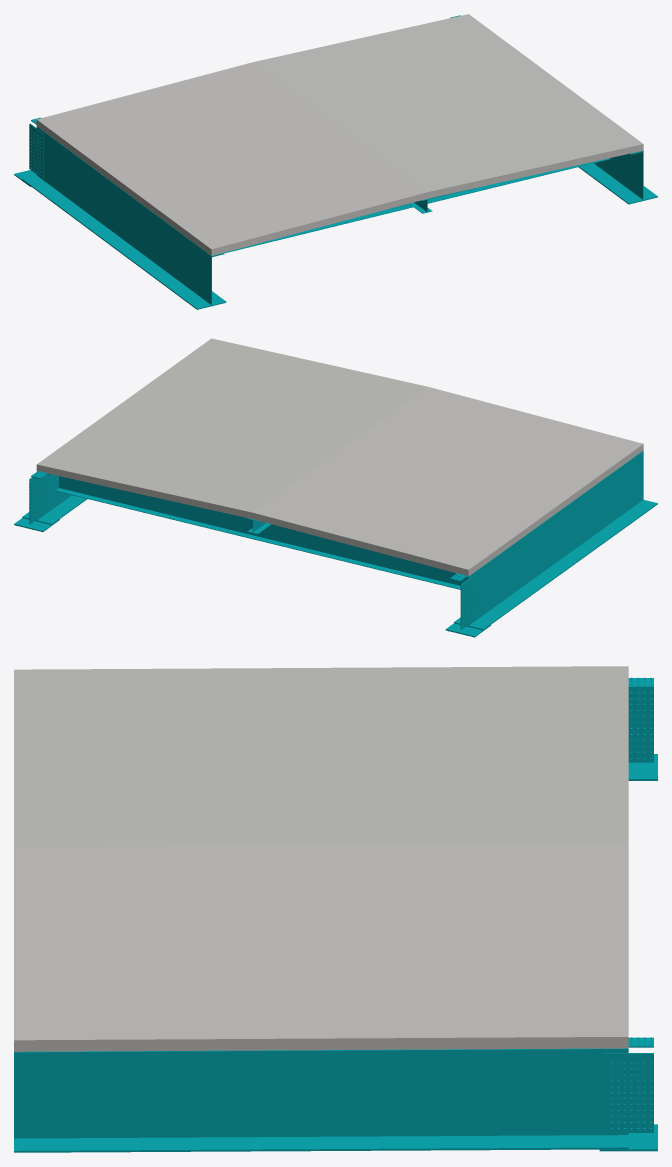
The model's file is DECK_NS04.glb.
3 renders of one model, top to bottom at view 1: azimuth 30°, elevation 25°; view 2: azimuth 150°, elevation 25°; view 3: azimuth 270°, elevation 25°, orthographic. The views are drawn at different scales.
Visible parts, largest first — view 1: NS04_Slab_15, NS04_G_W_0, NS04_G_E_1, NS04_FB_bf_14, NS04_SpliceW_17; view 2: NS04_Slab_15, NS04_G_W_0, NS04_FB_web_3, NS04_FB_bf_6, NS04_G_E_1, NS04_SpliceW_17, NS04_SpliceW_25; view 3: NS04_Slab_15, NS04_G_E_1, NS04_SpliceW_26, NS04_SpliceW_18.
Part boxes in pixels (x1,y1,x2,y2): NS04_Slab_15: (36, 14, 643, 255); NS04_G_W_0: (22, 126, 226, 309); NS04_G_E_1: (578, 150, 657, 204); NS04_FB_bf_14: (224, 158, 609, 253); NS04_SpliceW_17: (29, 124, 43, 178); NS04_Slab_15: (36, 338, 643, 576); NS04_G_W_0: (454, 450, 657, 630); NS04_FB_web_3: (59, 476, 468, 585); NS04_FB_bf_6: (55, 488, 460, 589); NS04_G_E_1: (22, 474, 87, 524); NS04_SpliceW_17: (461, 574, 476, 629); NS04_SpliceW_25: (30, 477, 44, 524); NS04_Slab_15: (14, 666, 628, 1051); NS04_G_E_1: (14, 1048, 628, 1152); NS04_SpliceW_26: (603, 1053, 653, 1132); NS04_SpliceW_18: (628, 688, 653, 762).
Bounding box in the file's own units: 18.26 × 2.4 × 12.57.
